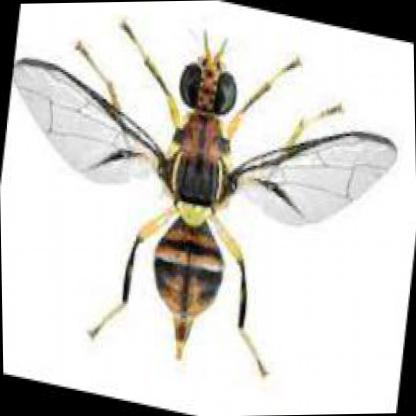fruit fly: (14, 22, 398, 360)
